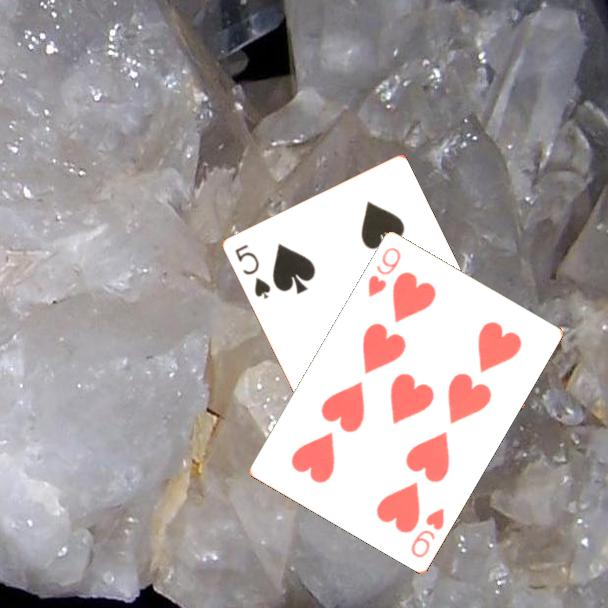h09: (364, 243, 404, 300), (407, 504, 447, 560)
s05: (231, 241, 273, 302)
